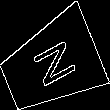N_SW: (24, 36, 78, 93)
